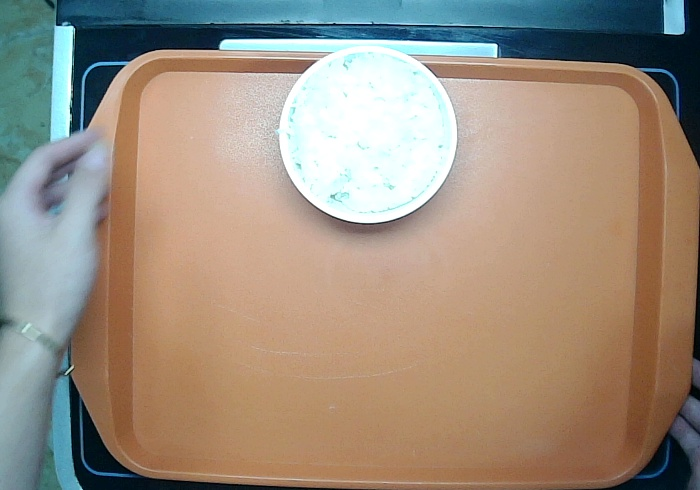HZYJPL-Fan_Wan: (278, 44, 460, 227)
